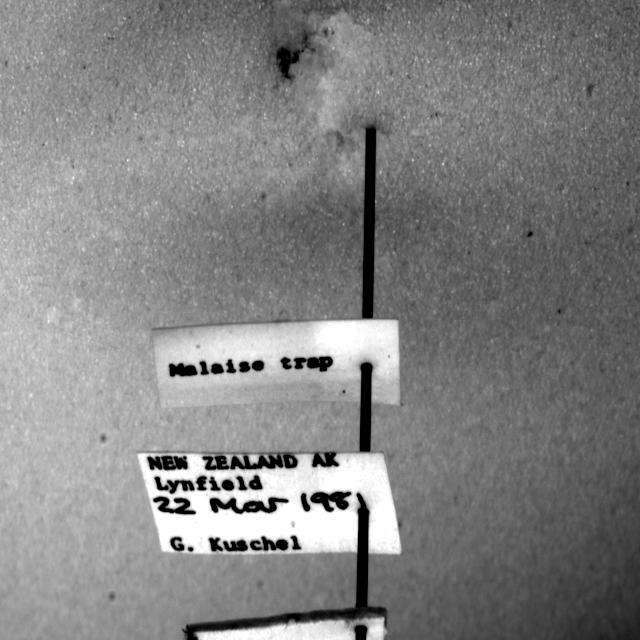mixed_label: (138, 452, 401, 555)
typed_label: (152, 319, 400, 407)
